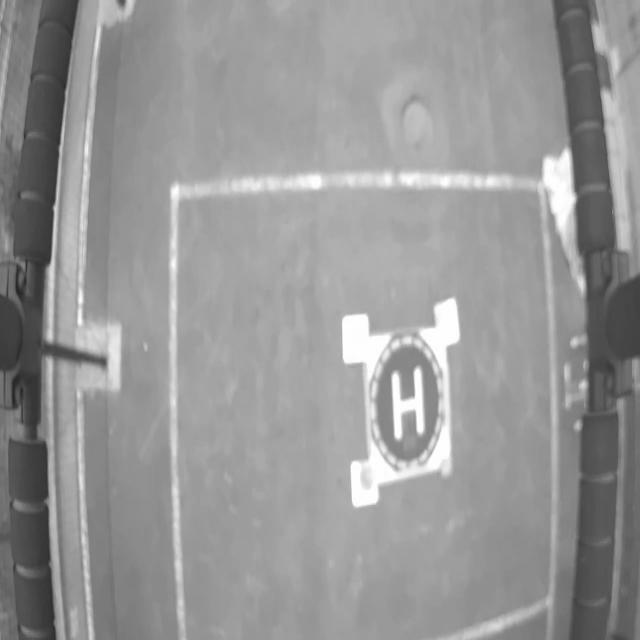Helipad: (391, 367, 425, 441)
